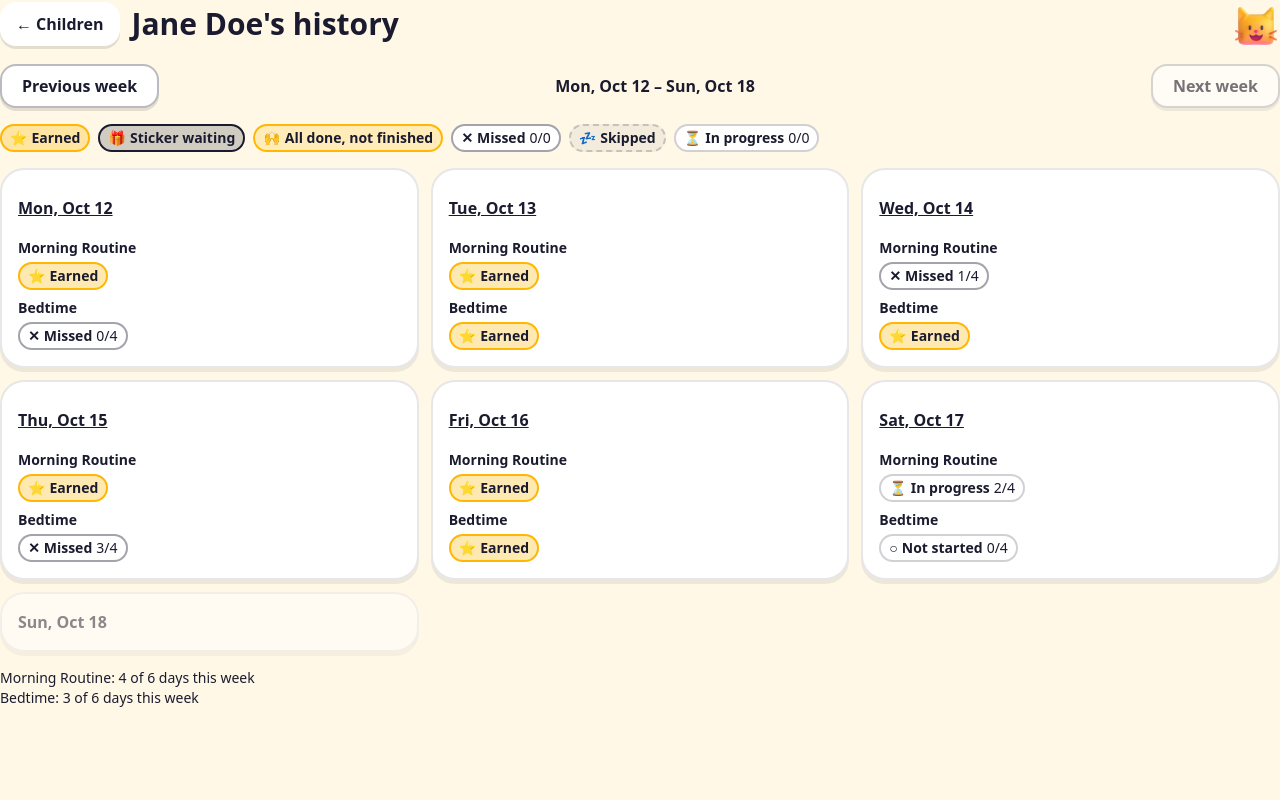
Scenario: HistoryScreen › a ready-to-finish routine unchecks freely, with no confirm sheet (BR-19)
Expected: the heading "Jane Doe's history" is shown, top-left (132, 3), bottom-right (399, 44)
Click the button "Wed, Oct 14".
click(926, 208)  # box top-left (879, 186), bottom-right (1262, 230)
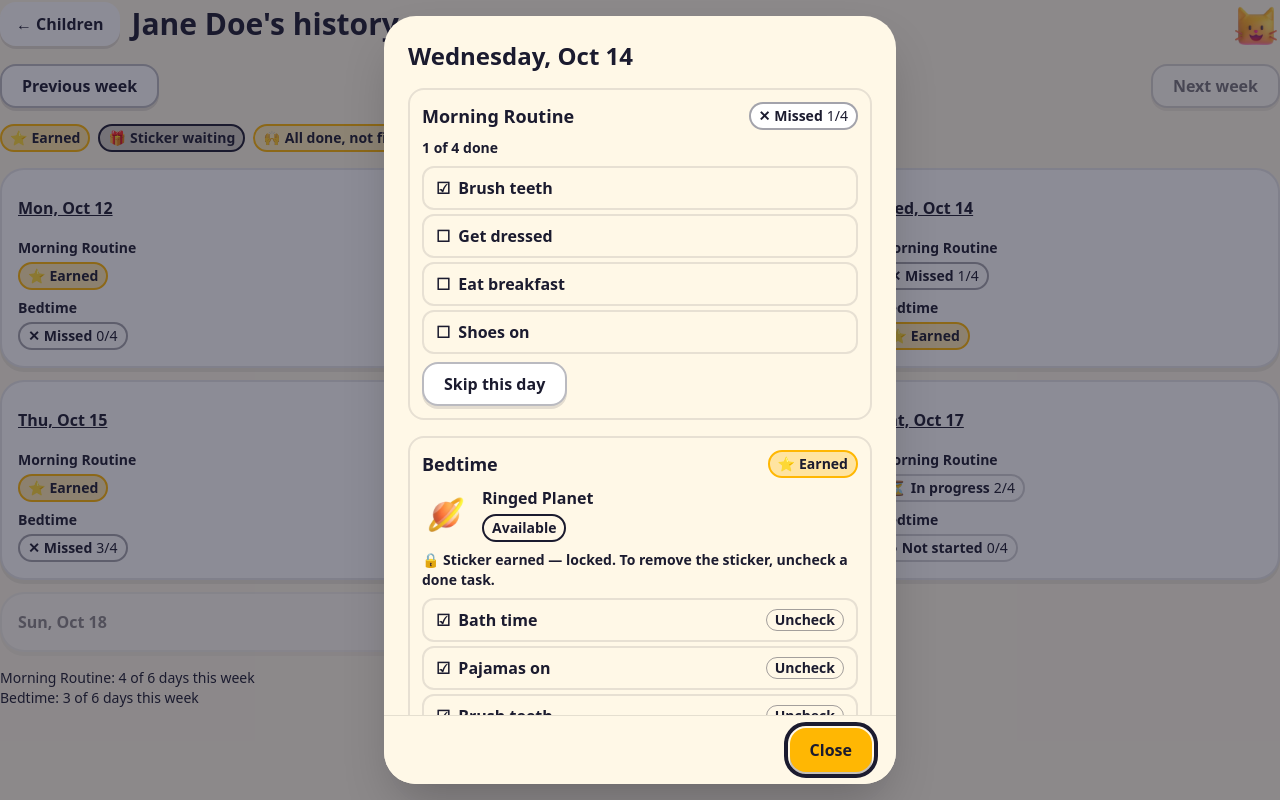
Click the button "☐ Get dressed".
click(505, 236)  # box top-left (422, 214), bottom-right (858, 258)
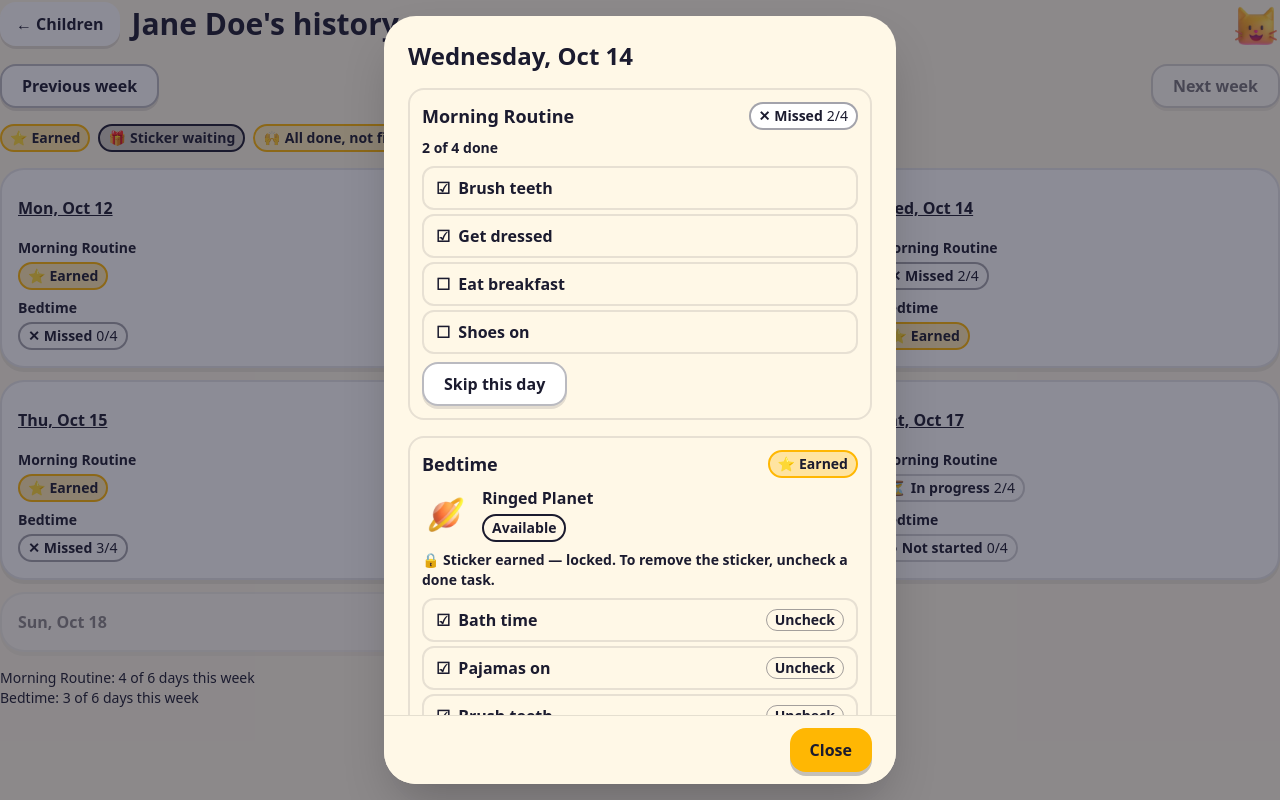
Click the button "☐ Eat breakfast".
click(512, 284)  # box top-left (422, 262), bottom-right (858, 306)
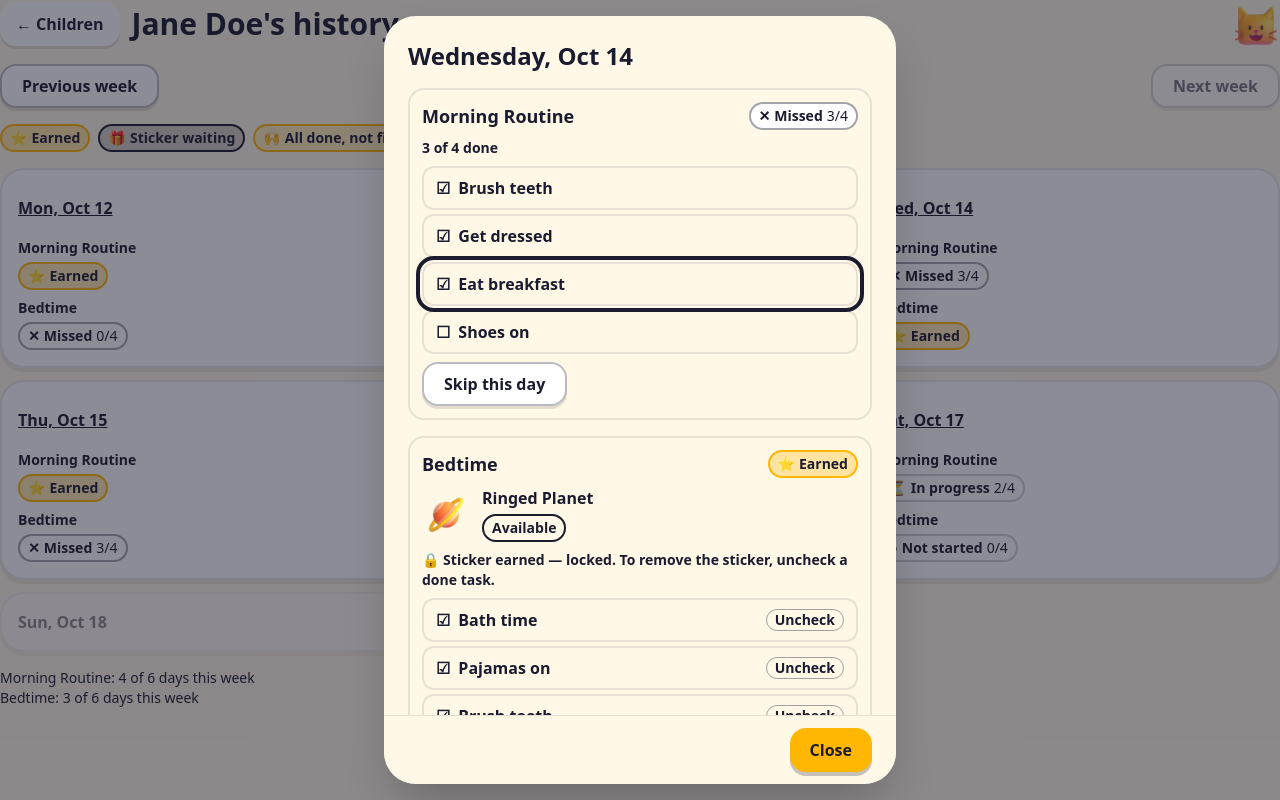
Click the button "☐ Shoes on".
click(494, 332)  # box top-left (422, 310), bottom-right (858, 354)
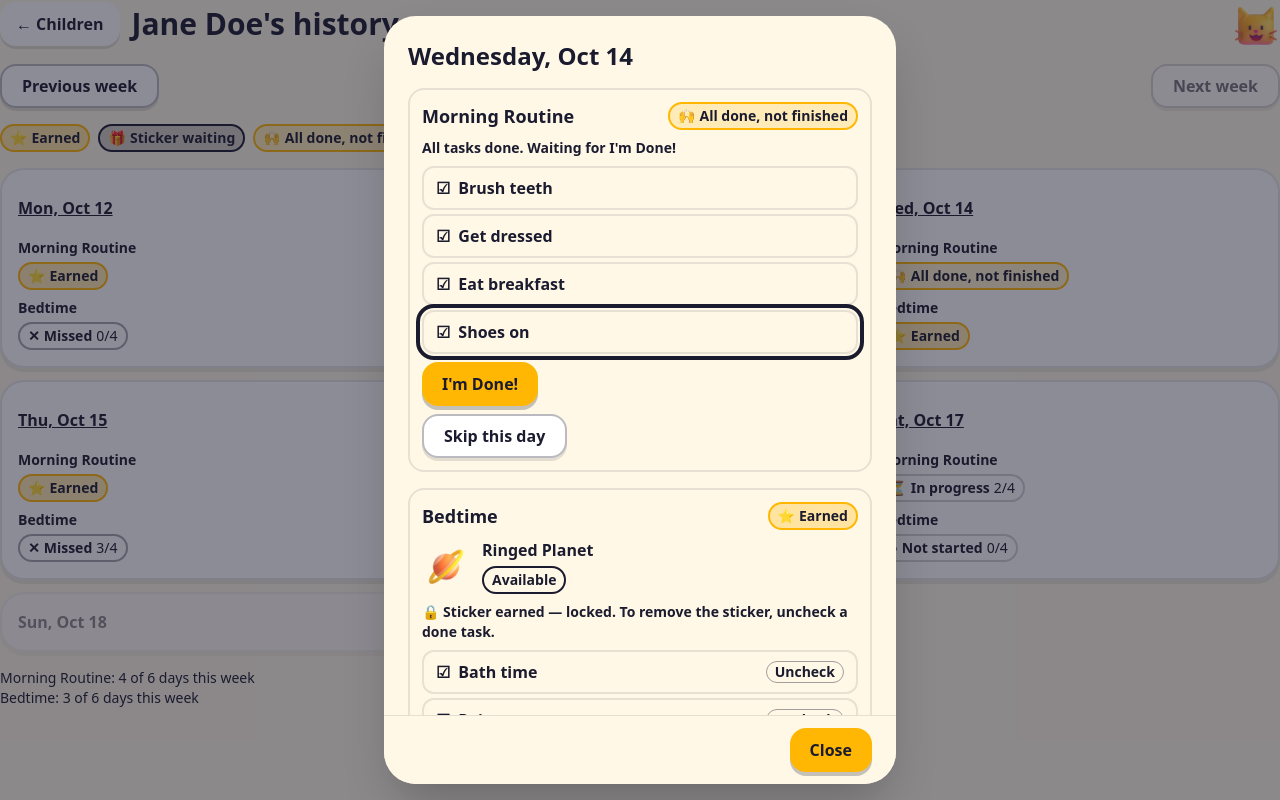
Expected: the button "I'm Done!" is shown, top-left (422, 362), bottom-right (538, 406)
Click the button "☑ Brush teeth".
click(506, 188)  # box top-left (422, 166), bottom-right (858, 210)
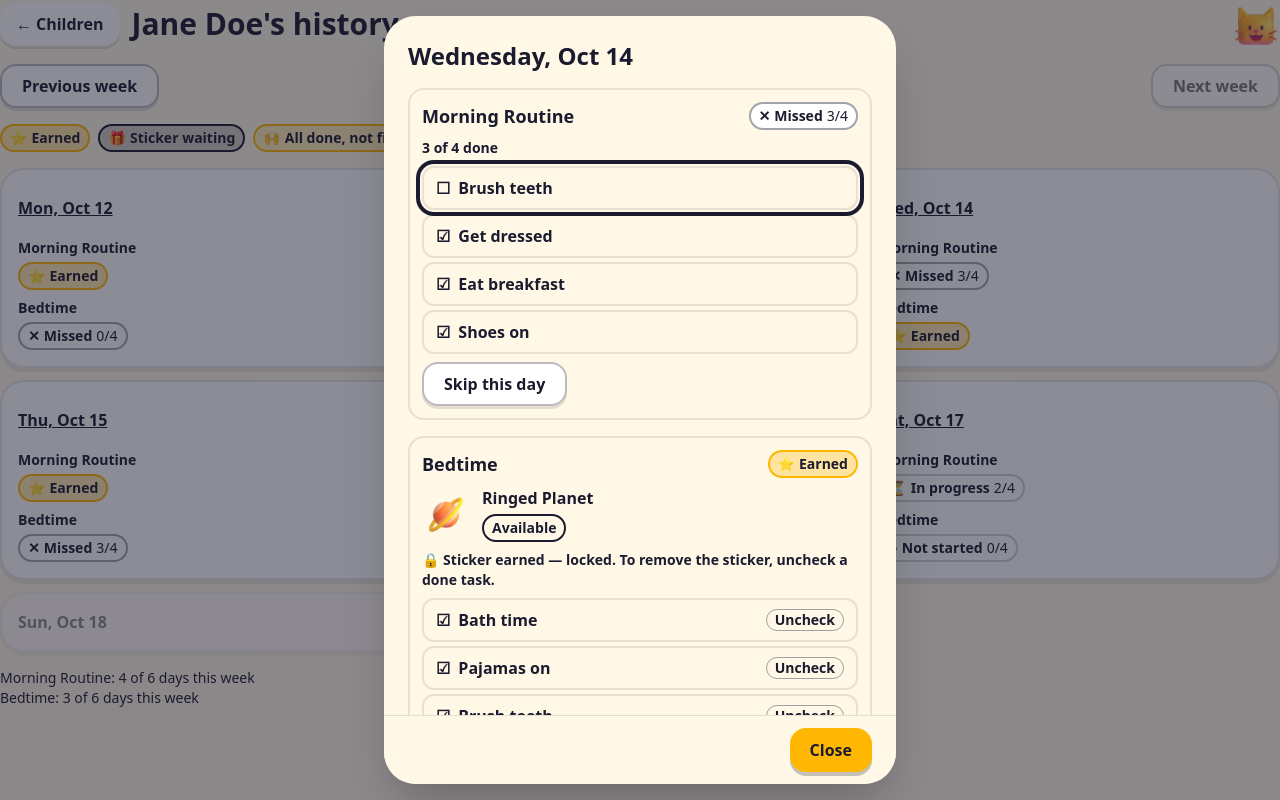
Expected: the text "I'm Done!" is gone
